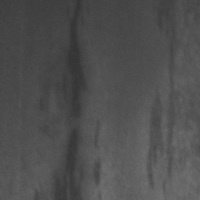inclusion: (146, 10, 190, 194), (55, 0, 90, 199), (85, 113, 108, 190)
